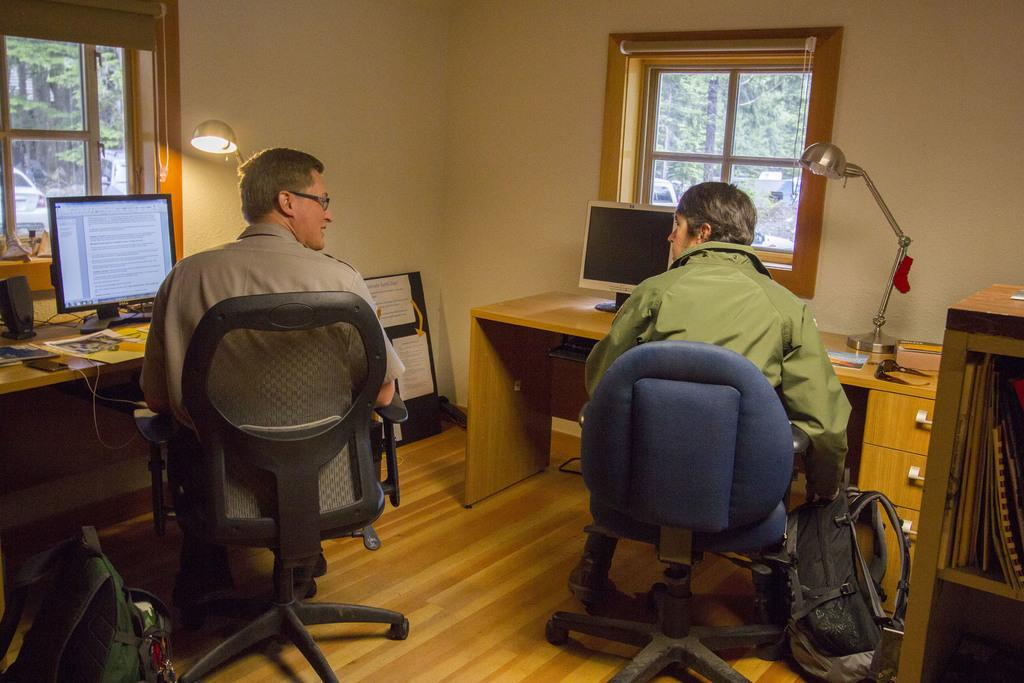Chair: (169, 289, 409, 681), (544, 339, 811, 682)
